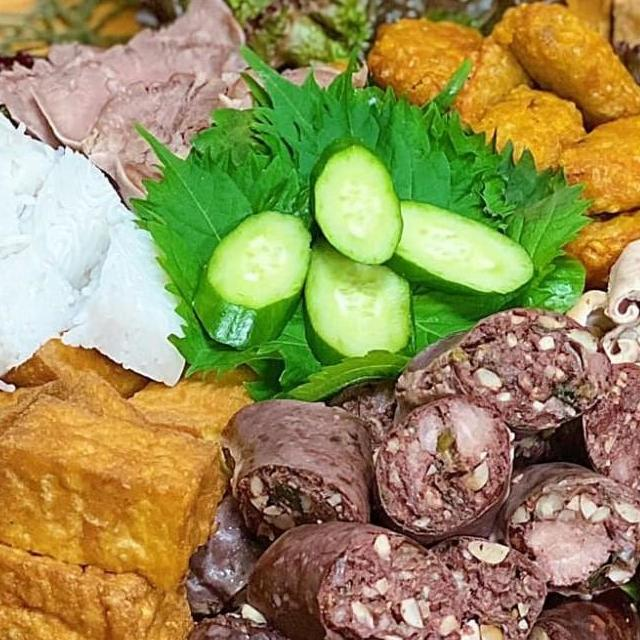bun: (0, 43, 206, 582)
bun dau: (0, 0, 640, 640)
cha com: (354, 0, 640, 288)
dau hu: (0, 323, 265, 640)
doi sun: (100, 297, 640, 640)
thit heo: (0, 0, 372, 217)
